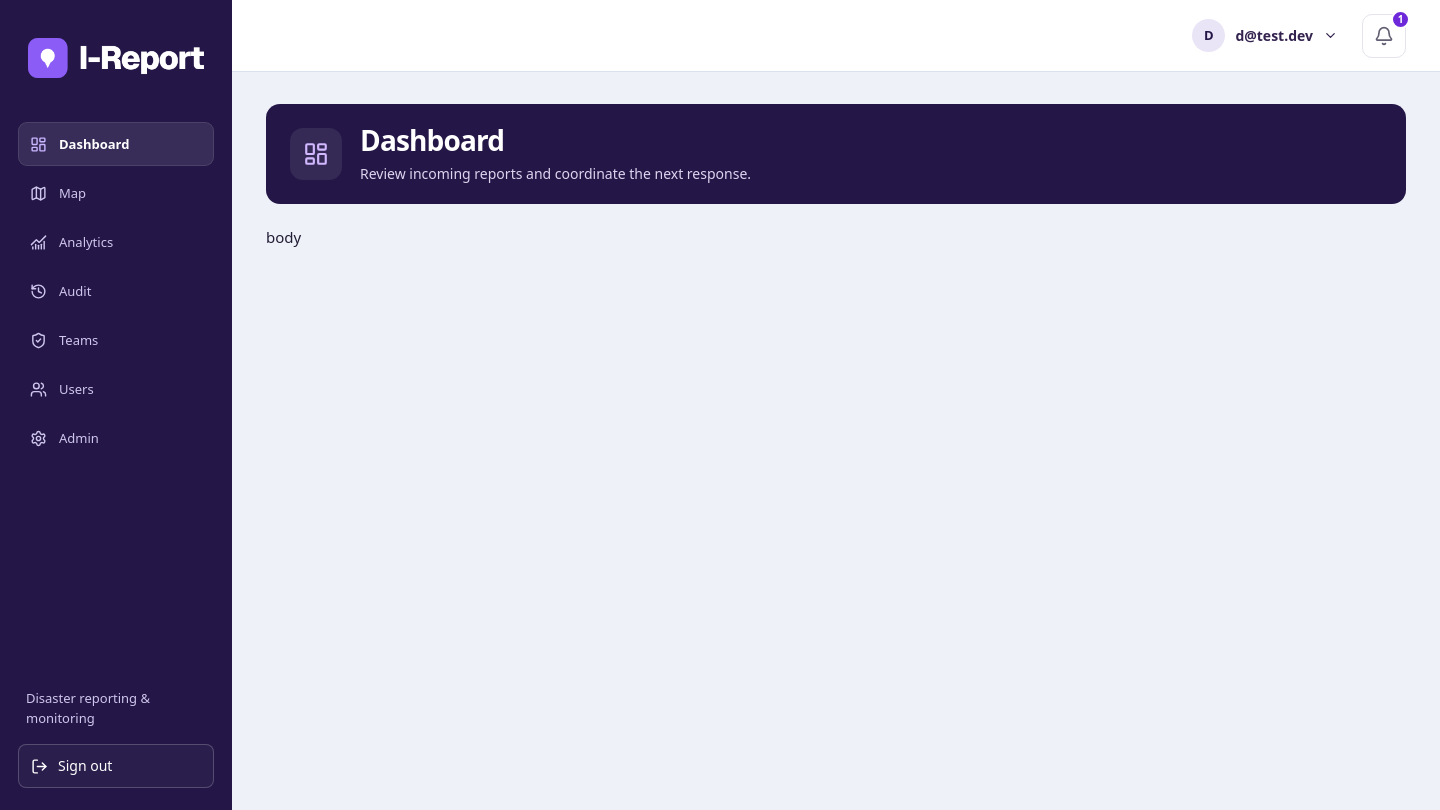
it: AppShell workspace copy › announces a sign-out that fails instead of swallowing it
The image size is (1440, 810).
Click the button "Sign out" at (116, 766), box left=18, top=744, right=214, bottom=788
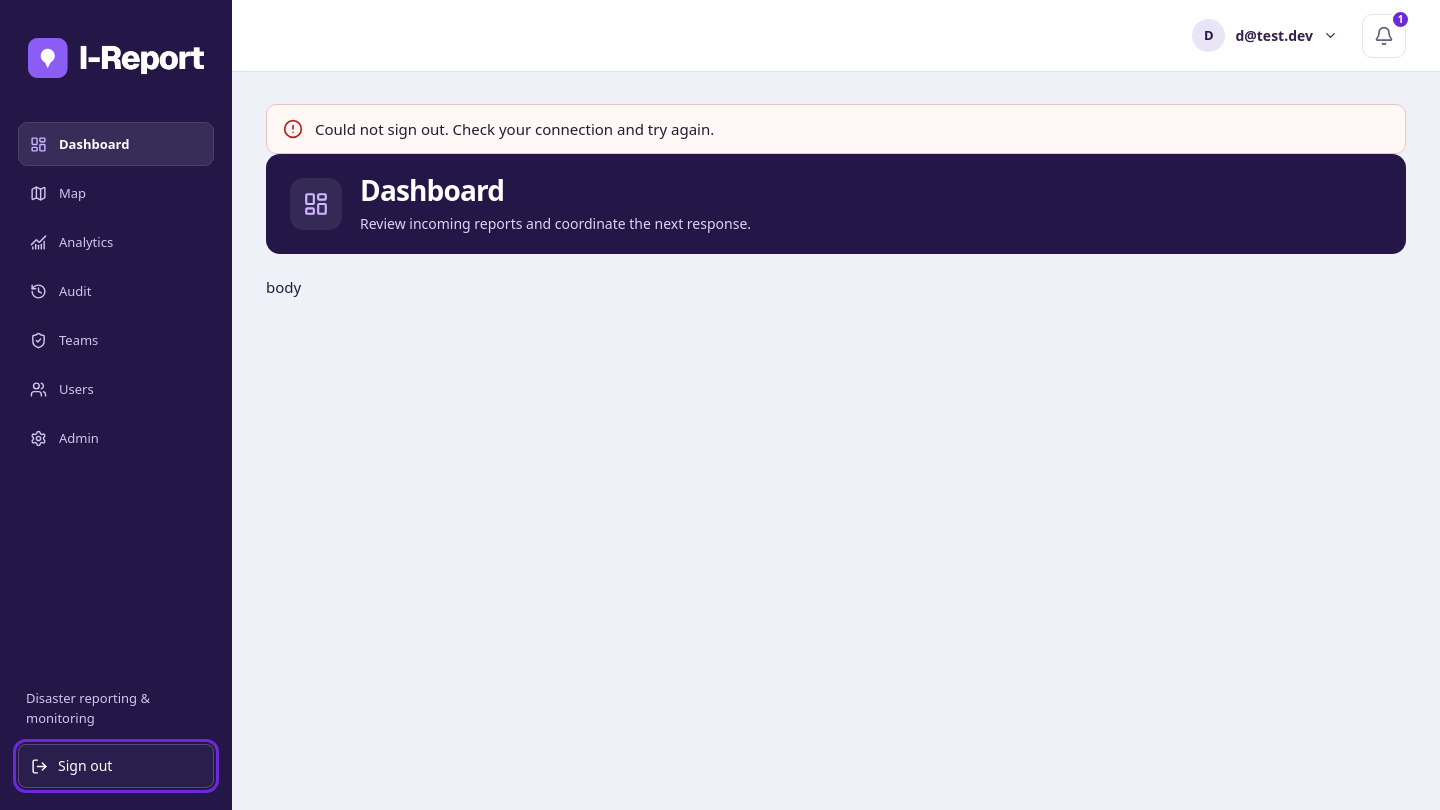
Expected: the message reads "Could not sign out. Check your connection and try again.", left=315, top=119, right=714, bottom=139
